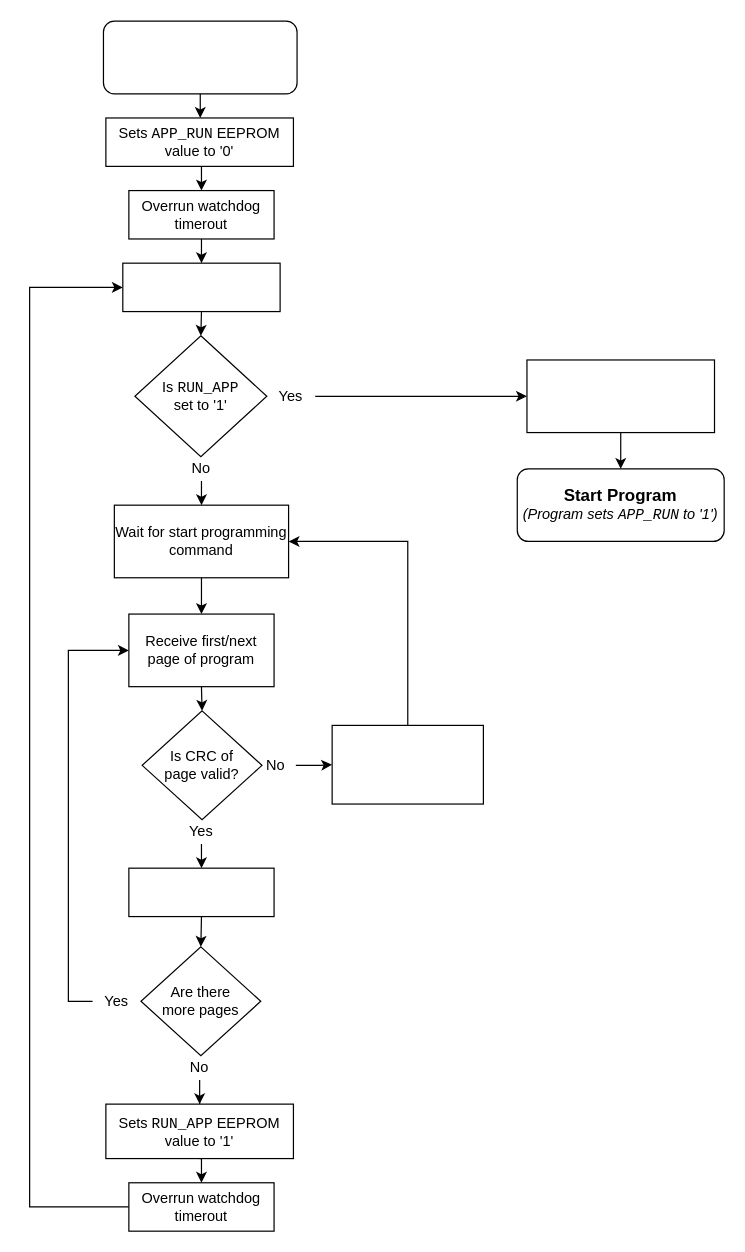
Image size: 745x1252. Some labels were removed from this diagram. Here are the shapes that lost their labels. From the top down, the centre of each, then its label:
(199,57): Main program receives "programming" command
(201,287): AVR resets
(620,396): Sets RUN_APP EEPROM value to '0'
(407,764): Assert signal line high and wait for page to repeat.
(201,892): Save page to flash
